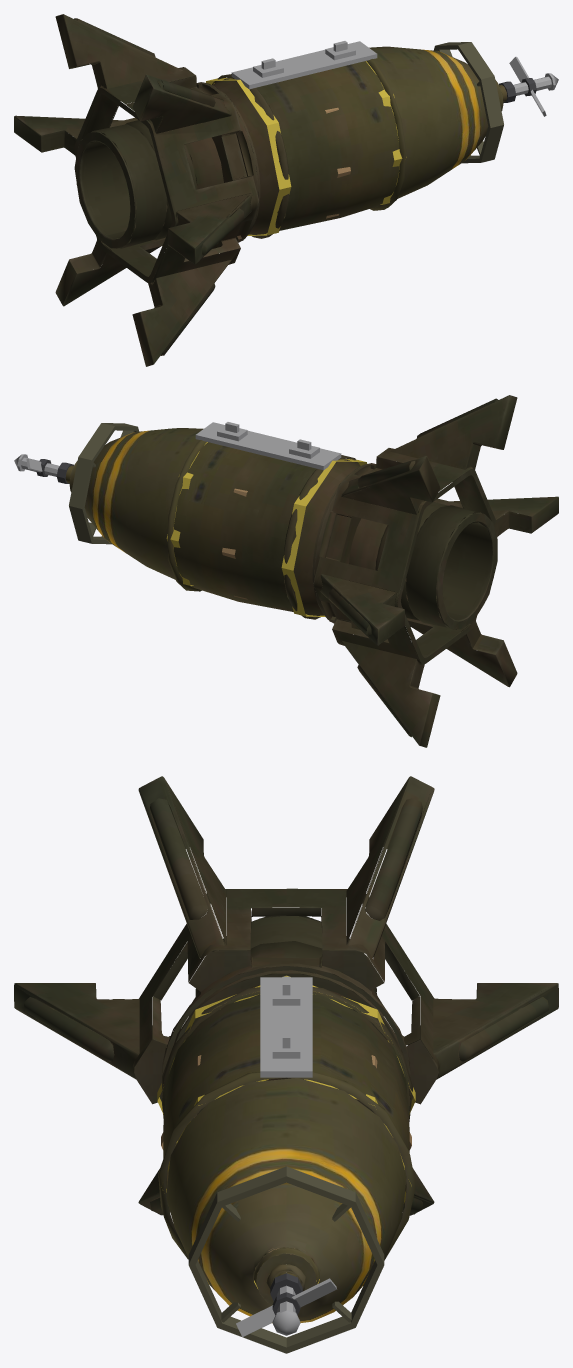
The model's file is hebomb_3.glb.
3 views of the same model, one above another, from view 1: azimuth 30°, elevation 25°; view 2: azimuth 150°, elevation 25°; view 3: azimuth 270°, elevation 25° (orthographic). The views are drawn at different scales.
Visible parts, largest first — view 1: hebomb_3; view 2: hebomb_3; view 3: hebomb_3.
Boxes of the visible parts, x1=… form: hebomb_3: x1=14, y1=14, x2=558, y2=366; hebomb_3: x1=14, y1=395, x2=558, y2=747; hebomb_3: x1=14, y1=776, x2=558, y2=1353.
Bounding box in the file's own units: 1.13 × 0.6973 × 0.7835.
6 materials, 1 textured.
